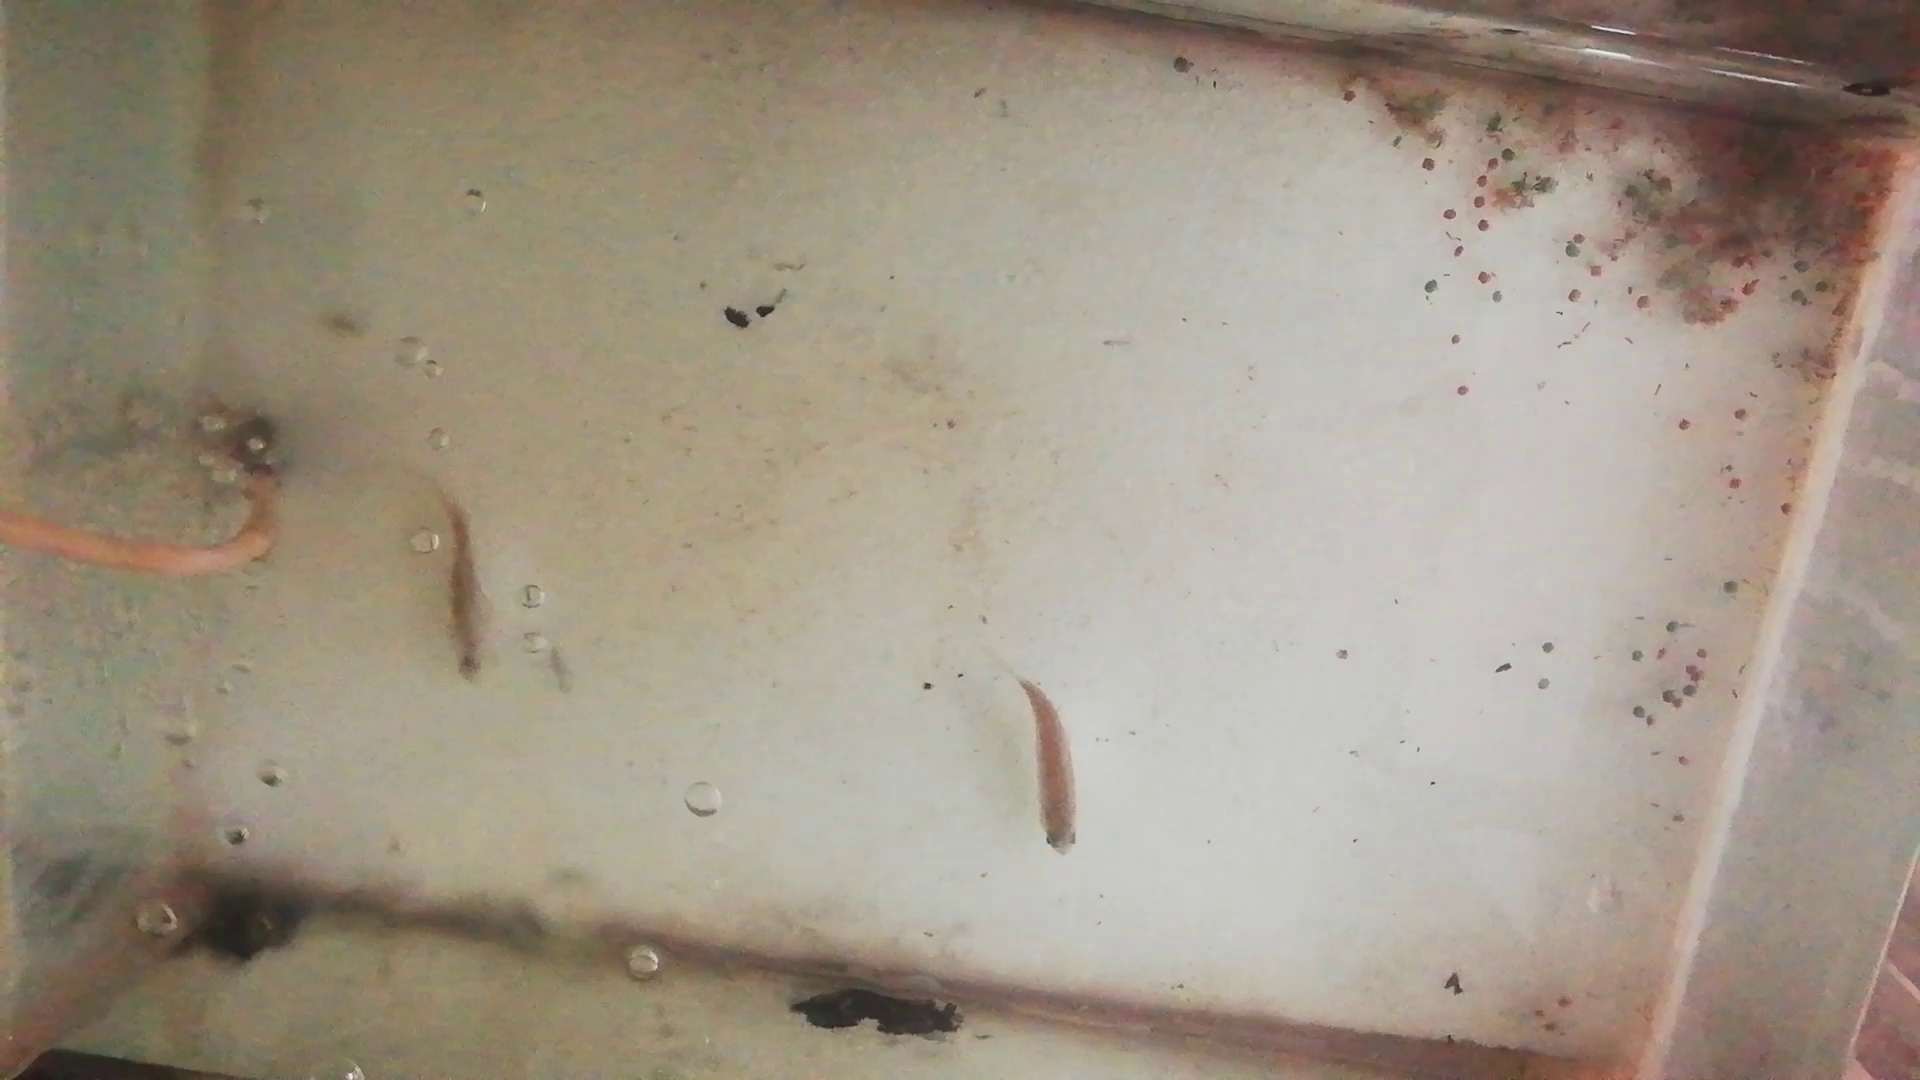fish: (1015, 676, 1087, 853), (442, 506, 497, 683)
